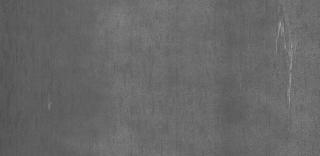silk spot: (254, 17, 308, 111)
